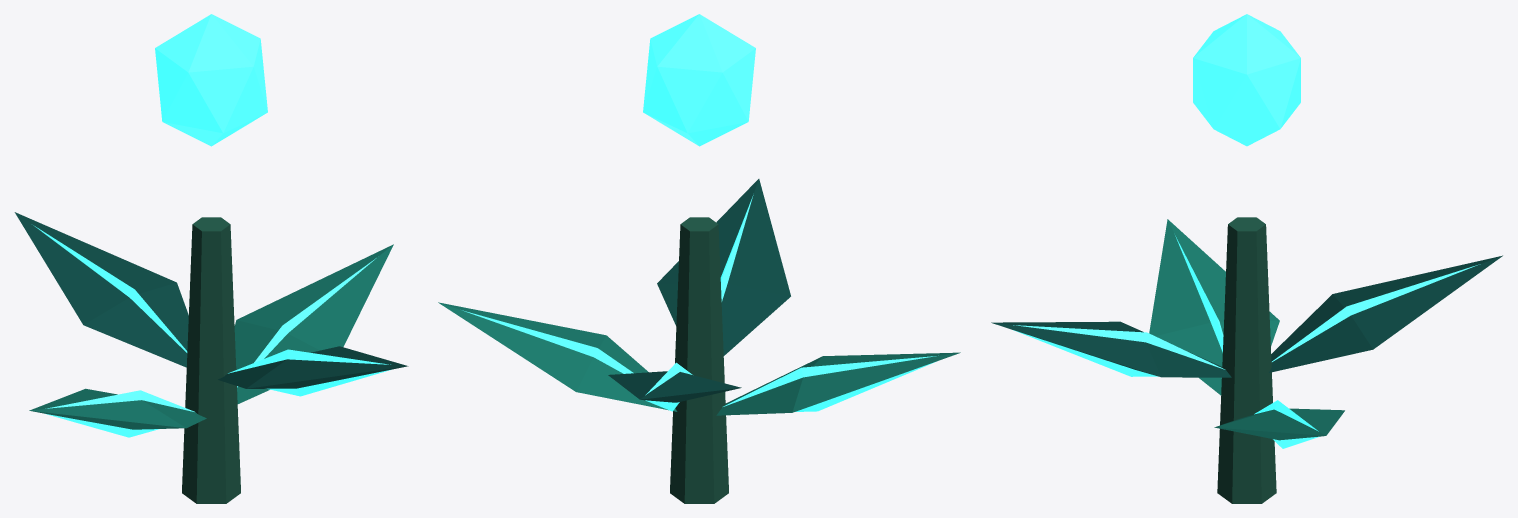
The model's file is cyber_plant_stage1.glb.
The picture shows the model from 3 angles, left to right: view 1: azimuth 30°, elevation 25°; view 2: azimuth 150°, elevation 25°; view 3: azimuth 270°, elevation 25°; orthographic projection.
Visible parts, largest first — view 1: cyber_plant_stage1; view 2: cyber_plant_stage1; view 3: cyber_plant_stage1.
Boxes of the visible parts, x1=… form: cyber_plant_stage1: x1=14, y1=14, x2=408, y2=503; cyber_plant_stage1: x1=438, y1=14, x2=960, y2=503; cyber_plant_stage1: x1=991, y1=14, x2=1502, y2=503.
Size of the model in its own units: 0.2423 by 0.2495 by 0.2423.
